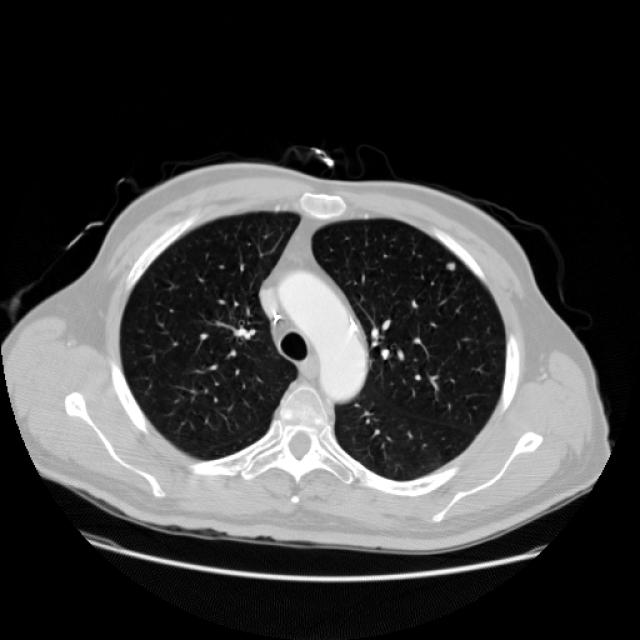nodule: (439, 254, 461, 276)
